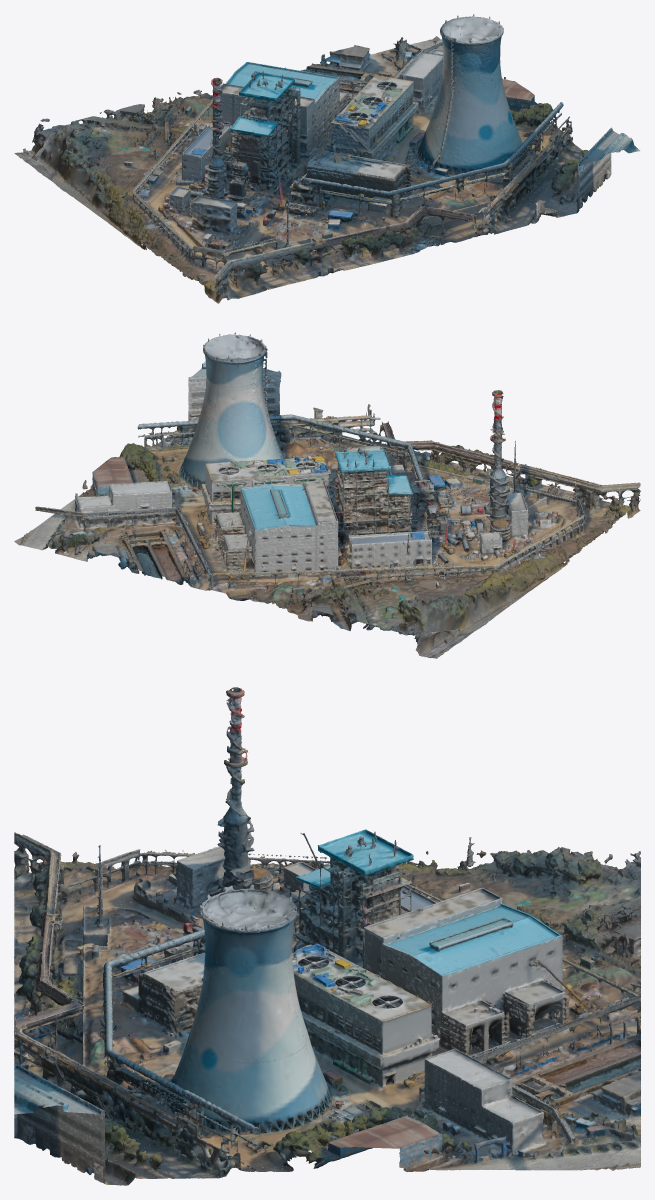
Rendered from thermal-plant.glb.
3 views of the same model, one above another, from view 1: azimuth 30°, elevation 25°; view 2: azimuth 150°, elevation 25°; view 3: azimuth 270°, elevation 25° (orthographic). The views are drawn at different scales.
Visible parts, largest first — view 1: Object_5, Object_3, Object_11, Object_9, Object_4, Object_12, Object_13, Object_10, Object_8, Object_15, Object_6, Object_7 (+1 smaller); view 2: Object_14, Object_5, Object_13, Object_11, Object_3, Object_8, Object_12, Object_7, Object_4, Object_9, Object_10, Object_15 (+1 smaller); view 3: Object_8, Object_7, Object_10, Object_11, Object_3, Object_14, Object_15, Object_13, Object_6, Object_9, Object_12, Object_4 (+1 smaller).
Boxes of the visible parts, <box> form: Object_5: <box>124,58,506,208</box>; Object_3: <box>14,36,640,303</box>; Object_11: <box>28,47,529,295</box>; Object_9: <box>77,154,608,283</box>; Object_4: <box>122,81,432,212</box>; Object_12: <box>20,37,629,301</box>; Object_13: <box>154,63,633,244</box>; Object_10: <box>366,70,615,232</box>; Object_8: <box>169,14,582,294</box>; Object_15: <box>259,40,485,283</box>; Object_6: <box>209,63,342,193</box>; Object_7: <box>210,58,510,261</box>; Object_14: <box>37,365,434,653</box>; Object_5: <box>198,376,500,587</box>; Object_13: <box>243,369,539,597</box>; Object_11: <box>45,412,630,648</box>; Object_3: <box>14,361,640,658</box>; Object_8: <box>35,332,493,647</box>; Object_12: <box>17,371,638,657</box>; Object_7: <box>175,375,503,584</box>; Object_4: <box>231,456,497,588</box>; Object_9: <box>161,372,575,615</box>; Object_10: <box>84,370,360,530</box>; Object_15: <box>41,424,574,564</box>; Object_8: <box>14,852,640,1174</box>; Object_7: <box>37,687,599,1064</box>; Object_10: <box>18,989,448,1181</box>; Object_11: <box>14,841,634,1167</box>; Object_3: <box>14,832,640,1185</box>; Object_14: <box>21,851,639,1184</box>; Object_15: <box>37,845,587,1166</box>; Object_13: <box>17,730,599,1118</box>; Object_6: <box>292,830,600,1061</box>; Object_9: <box>18,851,638,1180</box>; Object_12: <box>14,834,640,1168</box>; Object_4: <box>176,833,459,1059</box>.
Bounding box in the file's own units: 251 × 87.97 × 210.
1 material, 1 textured.
